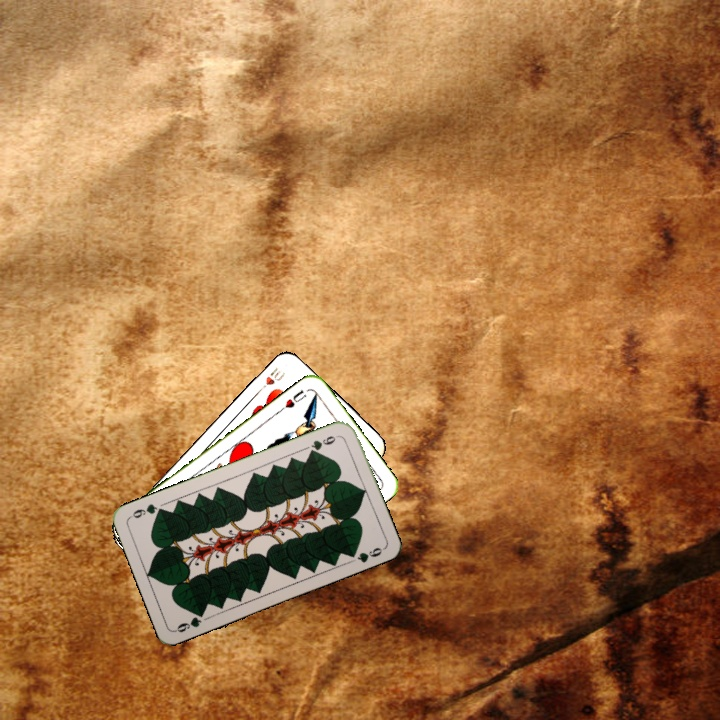G9: (171, 607, 208, 635), (305, 431, 341, 456)
H10: (254, 363, 288, 396)
HU: (281, 386, 309, 411)
